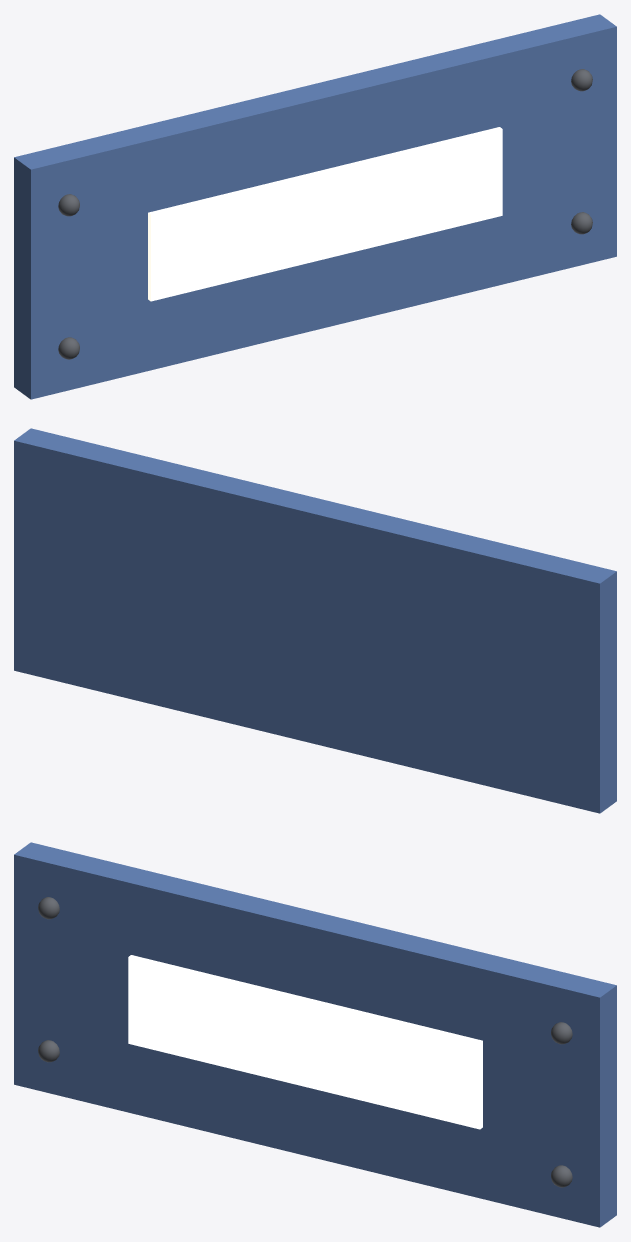
Rendered from prop_kanban_wall_b.glb.
3 views of the same model, one above another, from view 1: azimuth 30°, elevation 25°; view 2: azimuth 150°, elevation 25°; view 3: azimuth 330°, elevation 25° (orthographic).
Visible parts, largest first — view 1: kanban_wall_b; view 2: kanban_wall_b; view 3: kanban_wall_b.
Part boxes in pixels (box(x1,y1,x2,y2)): kanban_wall_b: box(14, 14, 616, 399); kanban_wall_b: box(14, 428, 616, 813); kanban_wall_b: box(14, 842, 616, 1227).
Bounding box in the file's own units: 2.4 × 0.9 × 0.17.
